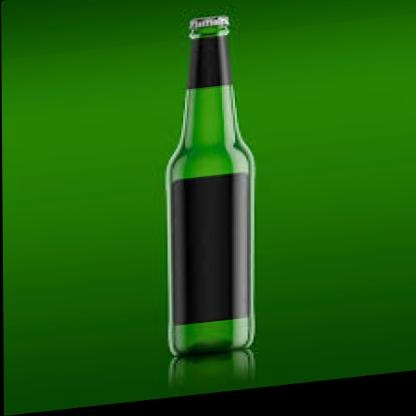trash: (166, 16, 254, 354)
